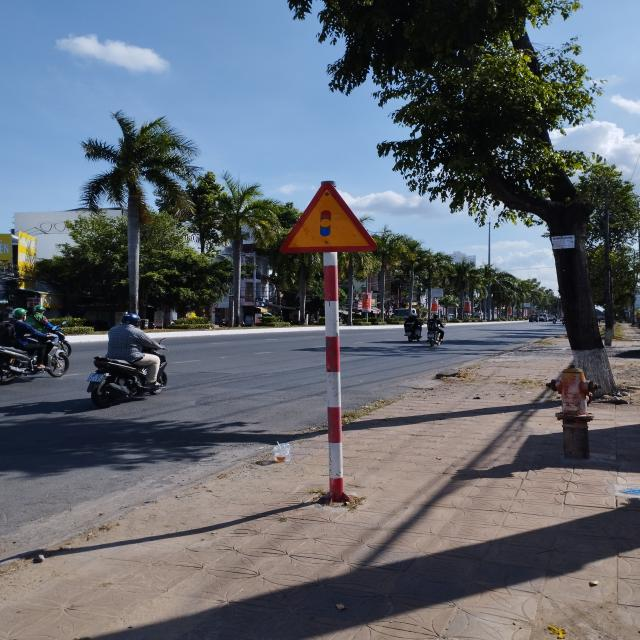Duong_Co_Go_Giam_Toc: (278, 180, 378, 253)
